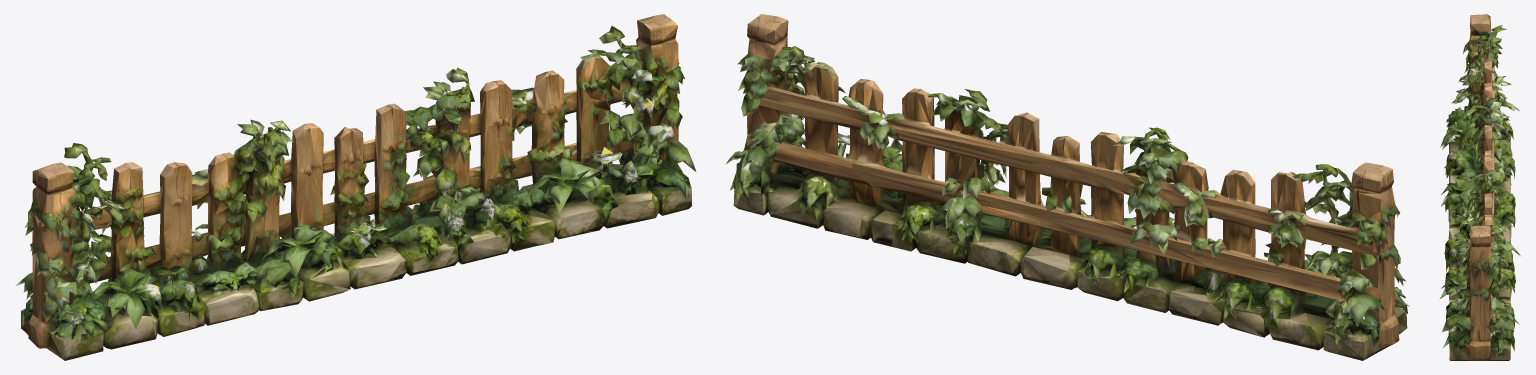
Rendered from back_enclosure.glb.
3 views of the same model, side by side, from view 1: azimuth 30°, elevation 25°; view 2: azimuth 150°, elevation 25°; view 3: azimuth 270°, elevation 25° (orthographic). The views are drawn at different scales.
Parts seen in each view (by area): view 1: tripo_node_d6b305e9; view 2: tripo_node_d6b305e9; view 3: tripo_node_d6b305e9.
Boxes of the visible parts, x1,y1,x2,y2 form: tripo_node_d6b305e9: [15, 14, 696, 360]; tripo_node_d6b305e9: [726, 14, 1409, 360]; tripo_node_d6b305e9: [1439, 14, 1520, 360].
Size of the model in its own units: 3.2 by 0.8487 by 0.4848.
Materials: 1 (1 with a texture image).
